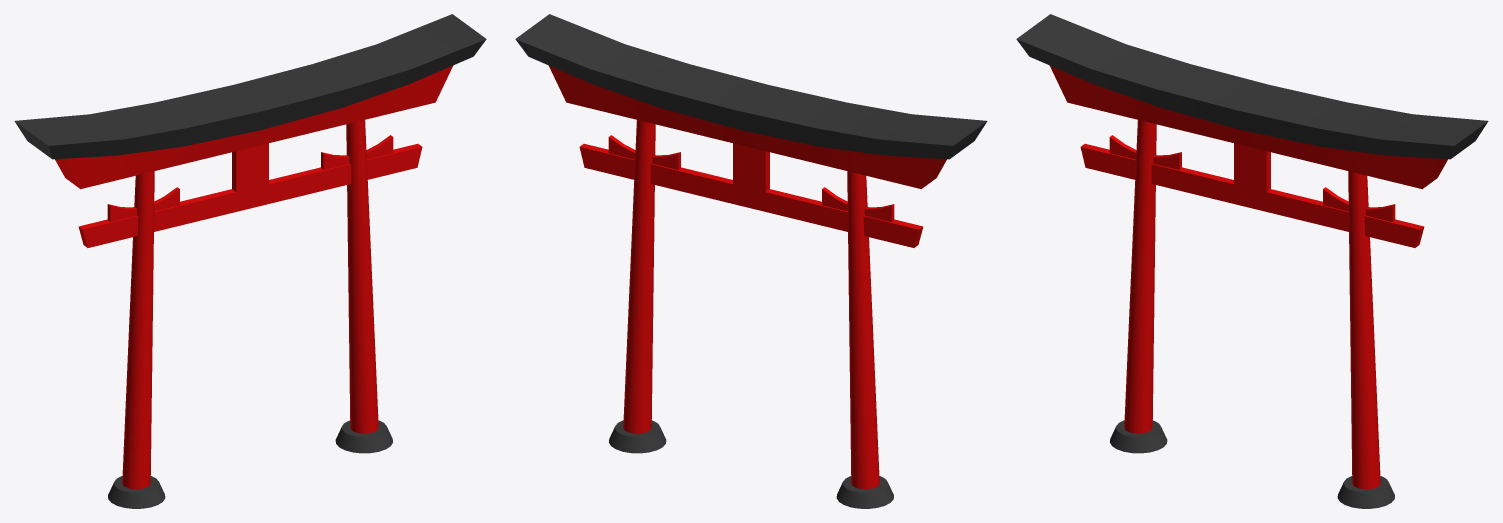
Rendered from torii_Gate.fbx.
3 renders of one model, left to right at view 1: azimuth 30°, elevation 25°; view 2: azimuth 150°, elevation 25°; view 3: azimuth 330°, elevation 25°, orthographic.
Visible parts, largest first — view 1: toriiGate; view 2: toriiGate; view 3: toriiGate.
Part boxes in pixels (left/top/right/bottom): toriiGate: left=14, top=14, right=486, bottom=508; toriiGate: left=515, top=14, right=987, bottom=508; toriiGate: left=1016, top=14, right=1488, bottom=508.
Size of the model in its own units: 44.28 by 37.57 by 6.
